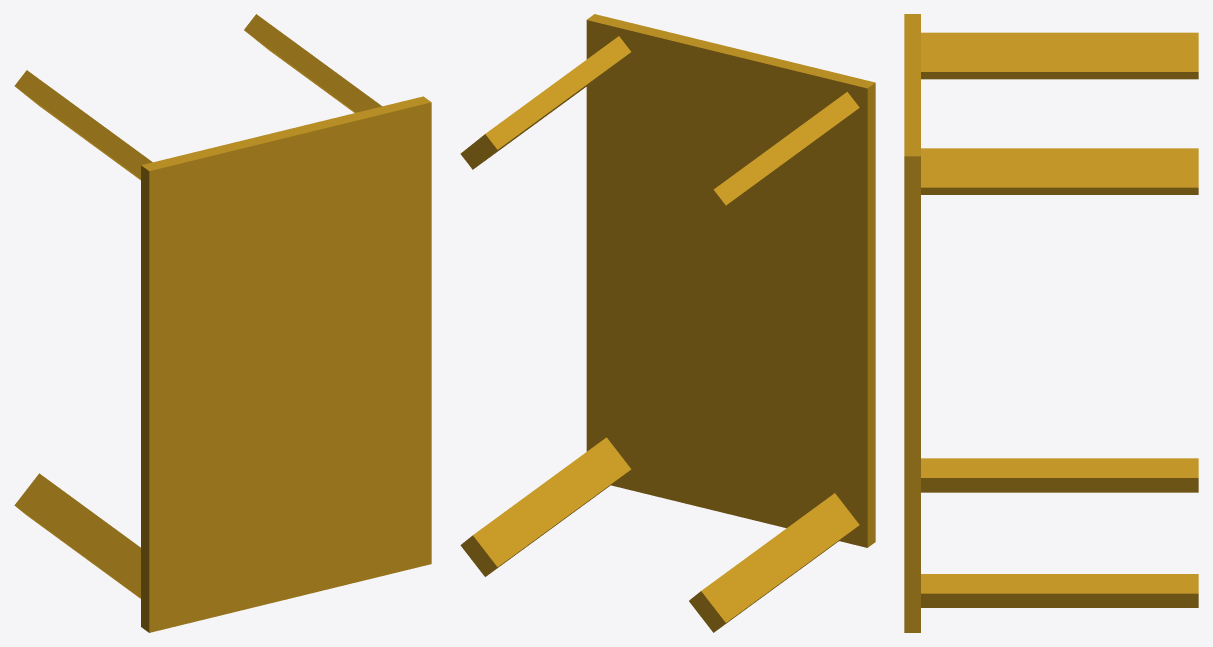
Rendered from nil_link_mesh.dae.
3 views of the same model, side by side, from view 1: azimuth 30°, elevation 25°; view 2: azimuth 150°, elevation 25°; view 3: azimuth 270°, elevation 25° (orthographic). The views are drawn at different scales.
Visible parts, largest first — view 1: nil_link (×4); view 2: nil_link (×5); view 3: nil_link (×5).
Boxes of the visible parts, <box> form: nil_link (×4): <box>14,14,431,632</box>; nil_link (×5): <box>460,14,875,632</box>; nil_link (×5): <box>904,14,1198,632</box>.
Size of the model in its own units: 0.8 by 1.25 by 0.7.
